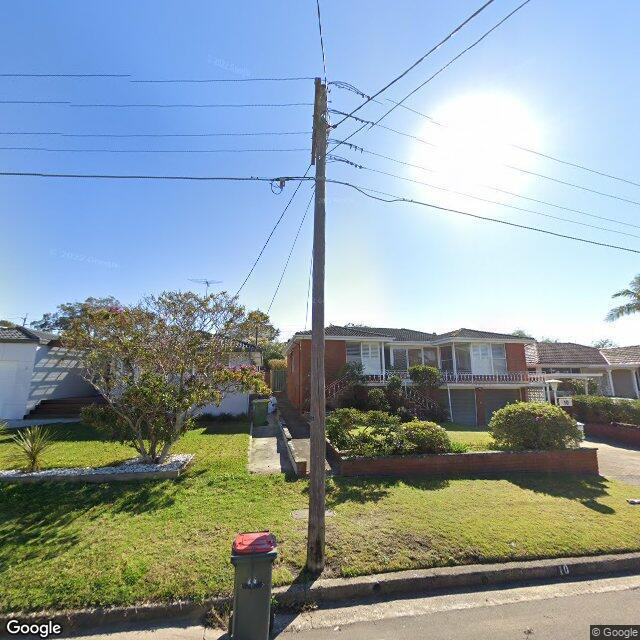crossarm: (310, 76, 322, 166)
timber-pole: (306, 83, 329, 573)
